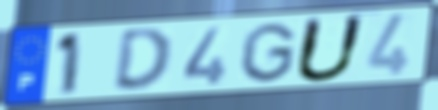1: (54, 31, 85, 97)
4: (364, 10, 414, 80), (181, 25, 230, 87)
D: (110, 26, 175, 94)
G: (236, 21, 299, 85)
U: (291, 13, 370, 84)
